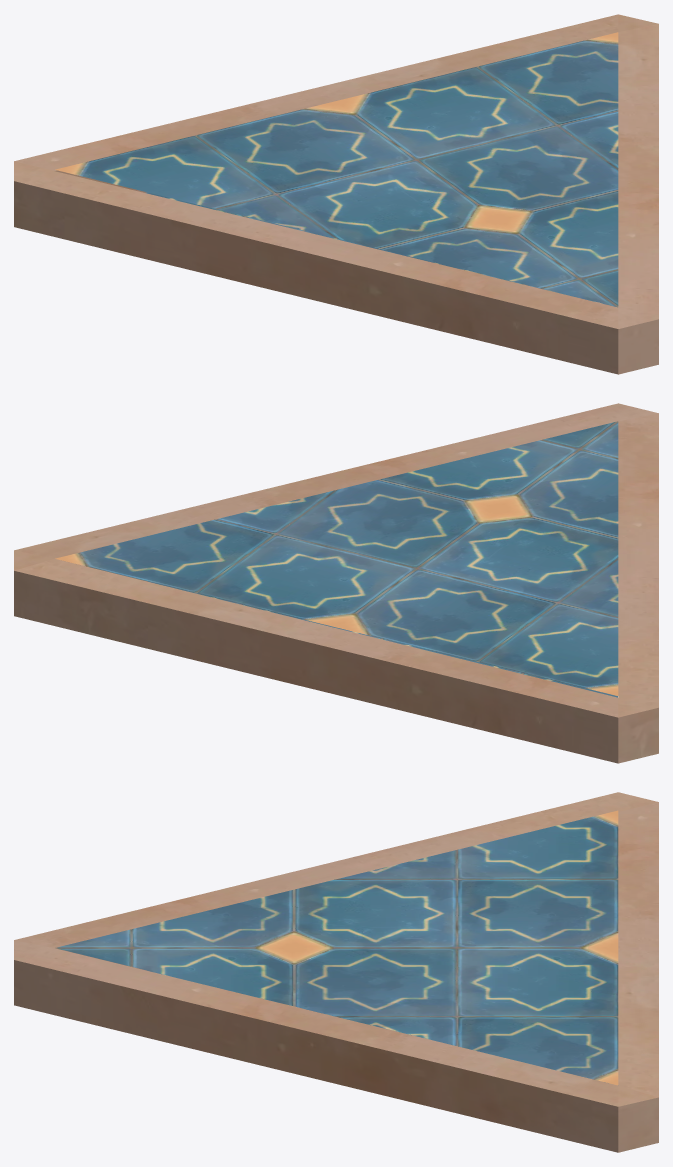
3 views of the same model, one above another, from view 1: azimuth 30°, elevation 25°; view 2: azimuth 150°, elevation 25°; view 3: azimuth 270°, elevation 25° (orthographic).
Visible parts, largest first — view 1: SM_BB_T4_Floor_Triangle_Large_01_LOD0; view 2: SM_BB_T4_Floor_Triangle_Large_01_LOD0; view 3: SM_BB_T4_Floor_Triangle_Large_01_LOD0.
Boxes of the visible parts, bbox=[...] form: SM_BB_T4_Floor_Triangle_Large_01_LOD0: bbox=[14, 14, 658, 374]; SM_BB_T4_Floor_Triangle_Large_01_LOD0: bbox=[14, 403, 658, 763]; SM_BB_T4_Floor_Triangle_Large_01_LOD0: bbox=[14, 792, 658, 1152].
Bounding box in the file's own units: 3.43 × 0.2414 × 2.97.
2 materials, 2 textured.
